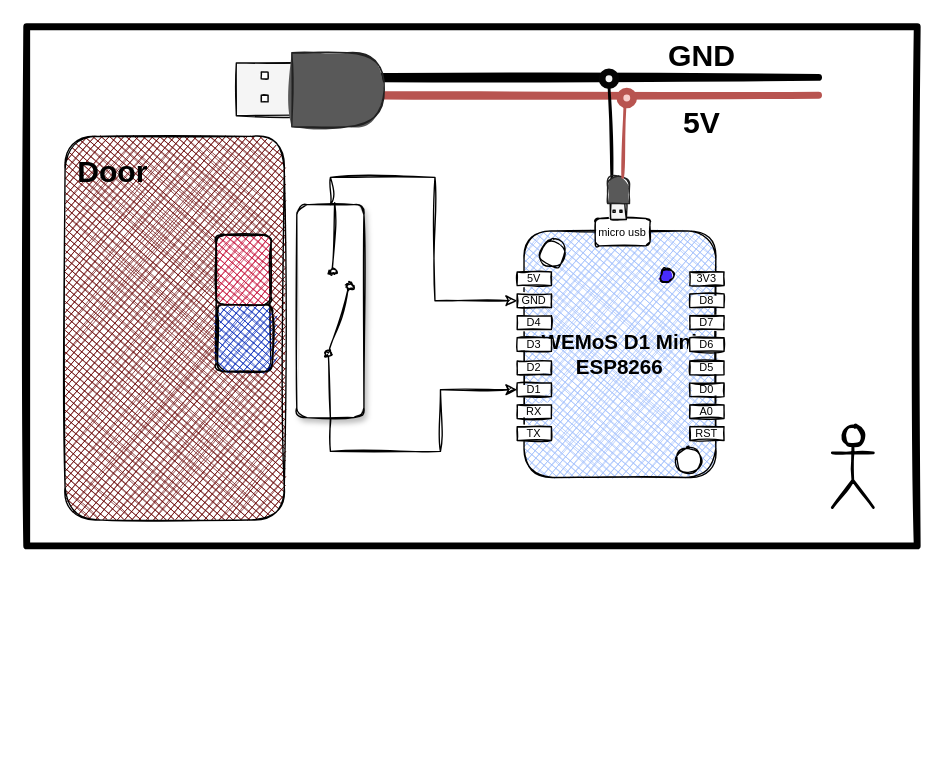
Some shapes in this 944 by 774 pixel diagram are drawn without their labels. Each missing label, with the centre of its shape:
Human for scale: the point at 852,465
Reed Switch: the point at 331,313
